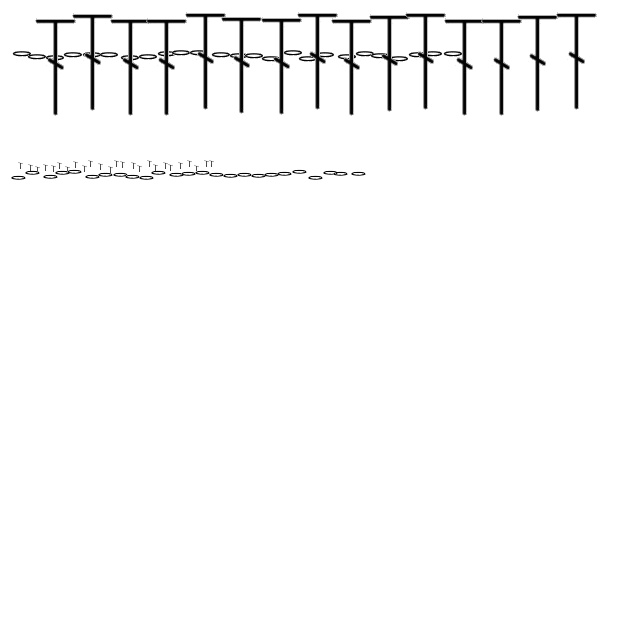chain: (11, 50, 33, 58), (26, 53, 48, 61), (44, 54, 66, 62), (62, 51, 84, 59), (81, 51, 103, 59), (98, 51, 120, 59), (119, 54, 141, 62), (137, 53, 159, 61), (156, 50, 178, 58), (170, 49, 192, 57), (188, 49, 210, 57), (210, 51, 232, 59), (228, 52, 250, 60), (243, 52, 265, 60), (260, 55, 282, 63), (282, 49, 304, 57), (297, 55, 319, 63), (314, 51, 336, 59), (336, 53, 358, 61), (354, 50, 376, 58), (369, 52, 391, 60), (388, 55, 410, 63), (407, 51, 429, 59), (422, 50, 444, 58), (442, 50, 464, 58), (10, 175, 28, 181), (24, 170, 42, 176), (42, 174, 60, 180), (54, 170, 72, 176), (66, 169, 84, 175), (84, 174, 102, 180), (112, 172, 130, 178), (124, 174, 142, 180), (138, 175, 156, 181), (150, 170, 168, 176), (168, 172, 186, 178), (180, 171, 198, 177), (194, 170, 212, 176), (208, 172, 226, 178), (222, 173, 240, 179), (236, 172, 254, 178), (250, 173, 268, 179), (276, 171, 294, 177), (322, 170, 340, 176), (332, 171, 350, 177), (350, 171, 368, 177), (98, 172, 114, 178), (264, 172, 280, 178), (292, 169, 308, 175), (308, 175, 324, 181)
double treble: (34, 15, 78, 119), (71, 10, 115, 114), (109, 15, 153, 119), (145, 15, 189, 119), (184, 9, 228, 113), (220, 13, 264, 117), (260, 14, 304, 118), (296, 9, 340, 113), (330, 15, 374, 119), (368, 11, 412, 115), (404, 9, 448, 113), (443, 15, 487, 119), (480, 15, 524, 119), (516, 11, 560, 115), (555, 9, 599, 113)
enseble_chain: (18, 162, 24, 170), (28, 164, 34, 172), (88, 160, 94, 168), (108, 166, 114, 174), (114, 160, 120, 168), (168, 164, 174, 172), (178, 162, 184, 170), (204, 160, 210, 168), (82, 166, 88, 172), (98, 164, 104, 170), (120, 162, 126, 168), (194, 166, 200, 172), (36, 166, 40, 174), (44, 164, 48, 172), (58, 162, 62, 170), (66, 166, 70, 174), (132, 162, 136, 170), (148, 160, 152, 168), (154, 164, 158, 172), (164, 162, 168, 170), (188, 160, 192, 168), (210, 160, 214, 168), (52, 166, 56, 172), (74, 162, 78, 168), (138, 166, 142, 172)
